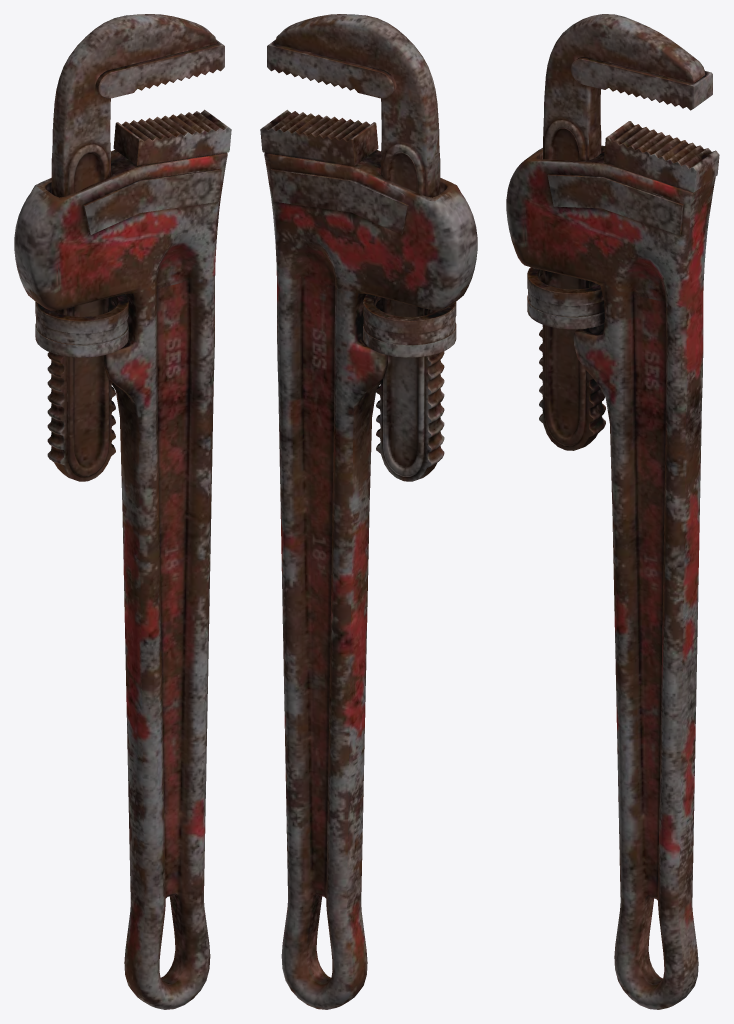
The model's file is pipe_wrench.glb.
3 views of the same model, side by side, from view 1: azimuth 30°, elevation 25°; view 2: azimuth 150°, elevation 25°; view 3: azimuth 330°, elevation 25° (orthographic).
Visible parts, largest first — view 1: pipe_wrench; view 2: pipe_wrench; view 3: pipe_wrench.
Boxes of the visible parts, <box> form: pipe_wrench: <box>14,14,231,1009</box>; pipe_wrench: <box>260,14,477,1009</box>; pipe_wrench: <box>506,14,719,1009</box>.
Size of the model in its own units: 0.0839 by 0.4047 by 0.0343.
1 material, 1 textured.
